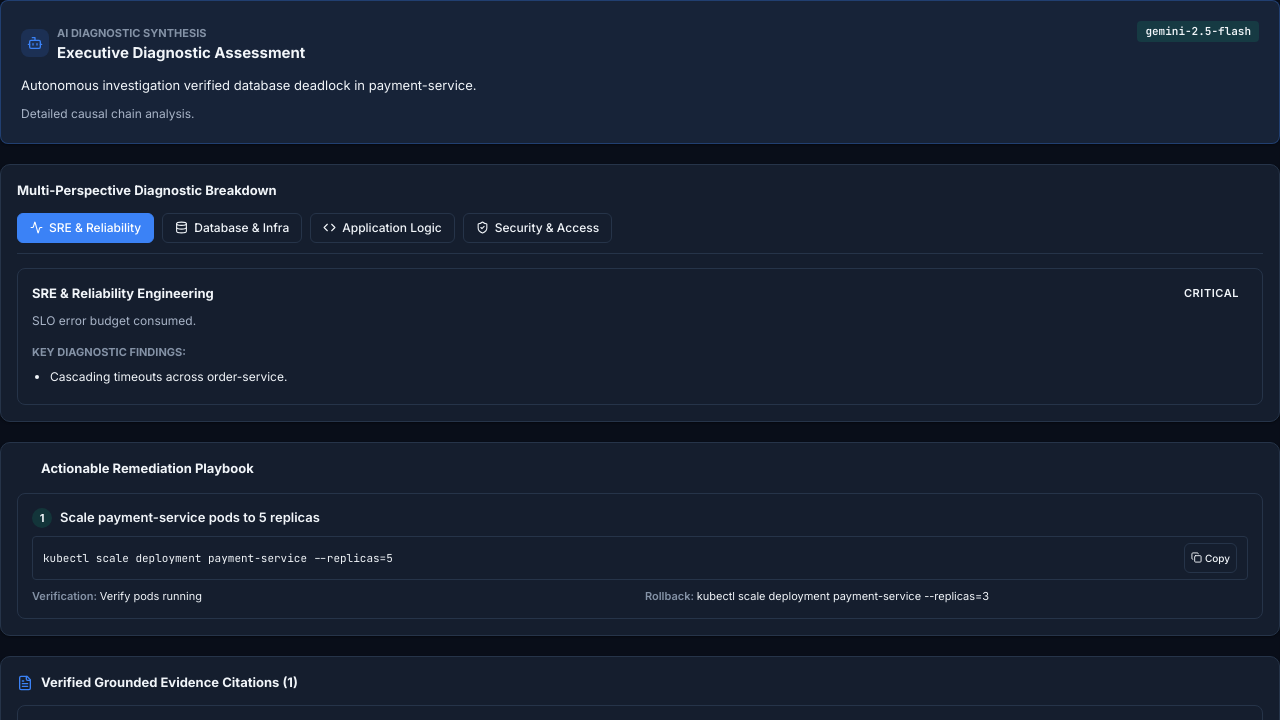
Scenario: Phase 11: Gemini AI Troubleshooter UI Components › TroubleshootingReport › renders summary, model badge, switches perspectives, and shows remediation
Check: the text "gemini-2.5-flash" is shown, box [1137,21,1259,42]
Check: the text "Autonomous investigation verified database deadlock" is shown, box [21,76,476,92]
# Switch to database perspective
Click the button "Database & Infra": [232, 228] box [162,213,302,243]
(page scrolled)
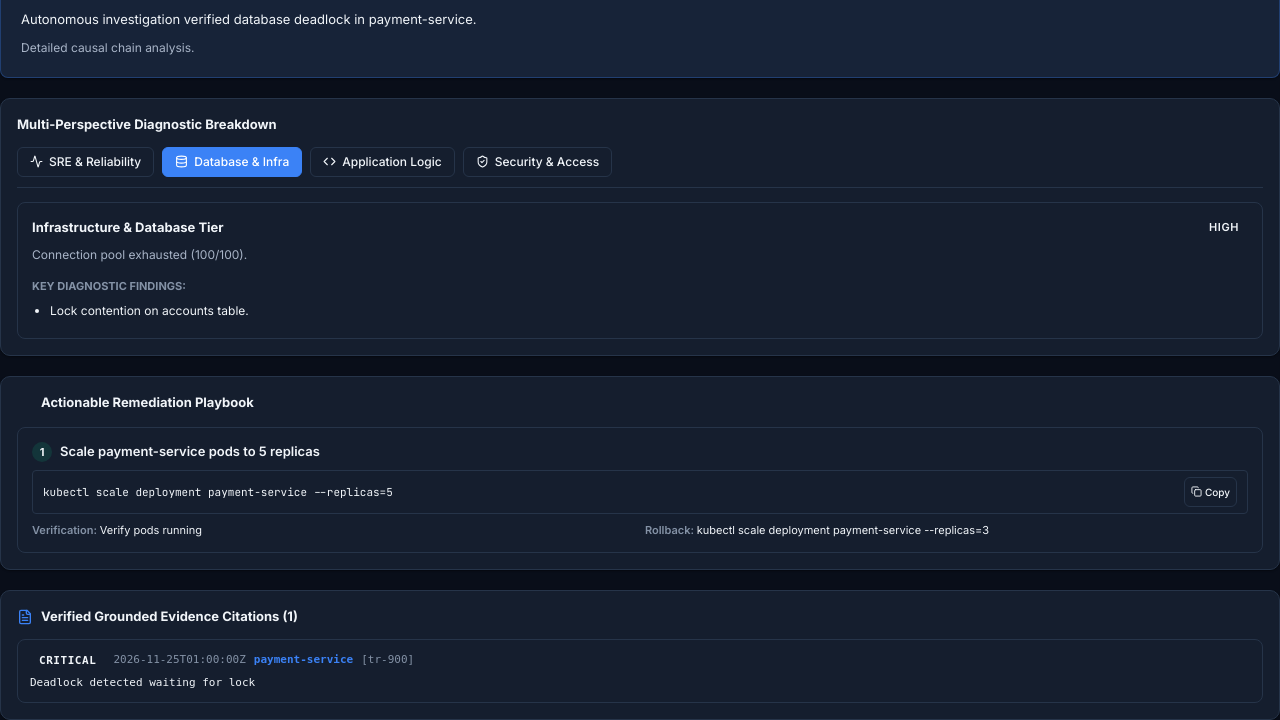
Check: the text "kubectl scale deployment payment-service --replicas=5" is shown, box [43,484,393,500]
Check: the text "Connection pool exhausted (100/100)." is shown, box [32,247,247,262]
